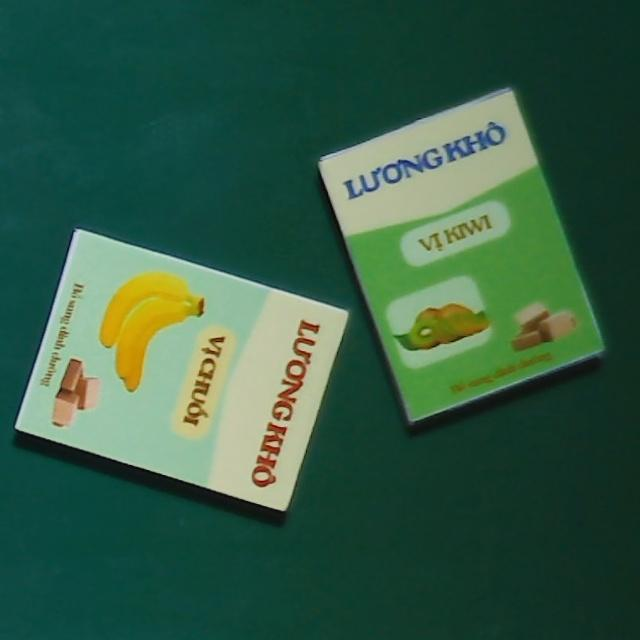chuoi: (12, 228, 348, 514)
kiwi: (313, 84, 608, 424)
